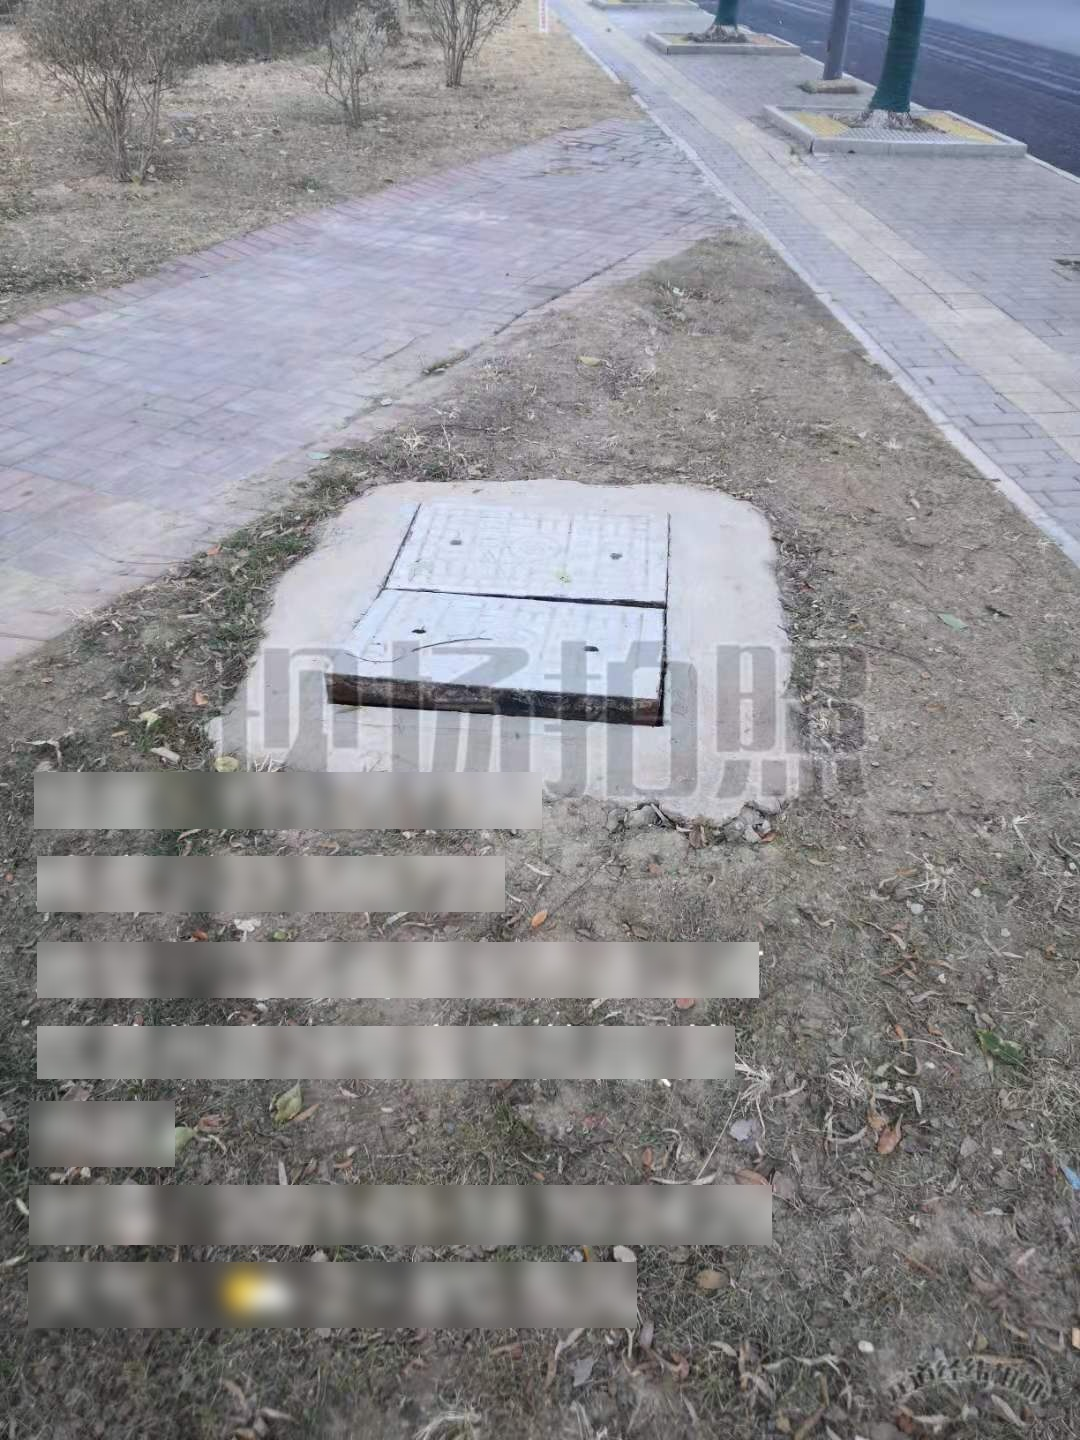uncovered: (323, 489, 684, 744)
